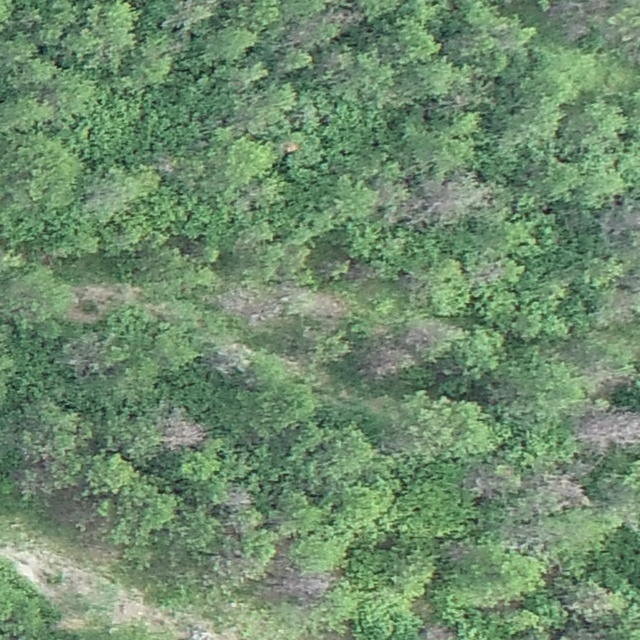unhealthy: (413, 171, 491, 220), (577, 408, 638, 452), (219, 287, 283, 324), (532, 471, 588, 509), (160, 411, 208, 449), (204, 341, 251, 378), (362, 343, 409, 380), (65, 336, 107, 376), (279, 571, 335, 600), (584, 361, 632, 394), (464, 466, 507, 501), (600, 204, 640, 239), (72, 282, 115, 314), (402, 318, 445, 349), (310, 291, 349, 321), (324, 7, 364, 29), (223, 485, 253, 510), (423, 621, 456, 639), (566, 21, 589, 43), (584, 0, 612, 12)
